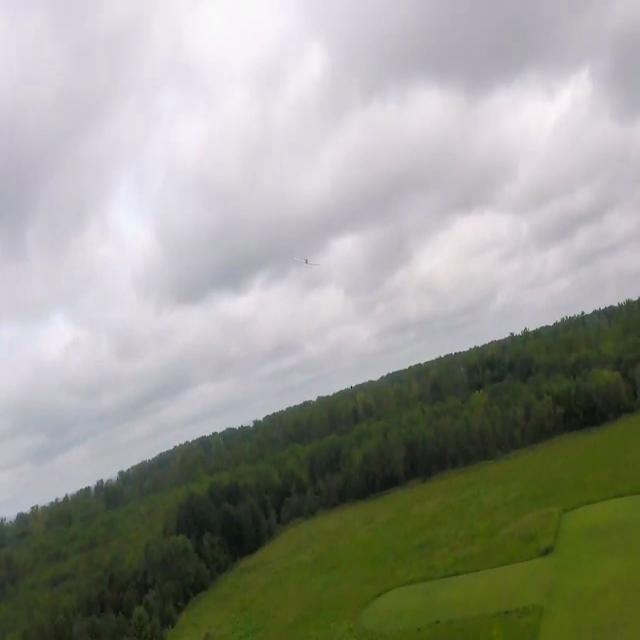iha: (291, 249, 322, 264)
